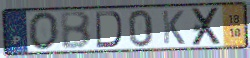0: (127, 8, 154, 48)
B: (59, 10, 93, 50)
D: (94, 10, 124, 49)
K: (160, 9, 186, 46)
O: (27, 11, 60, 52)
X: (190, 6, 223, 48)
